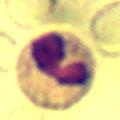eosi: (15, 31, 97, 110)
